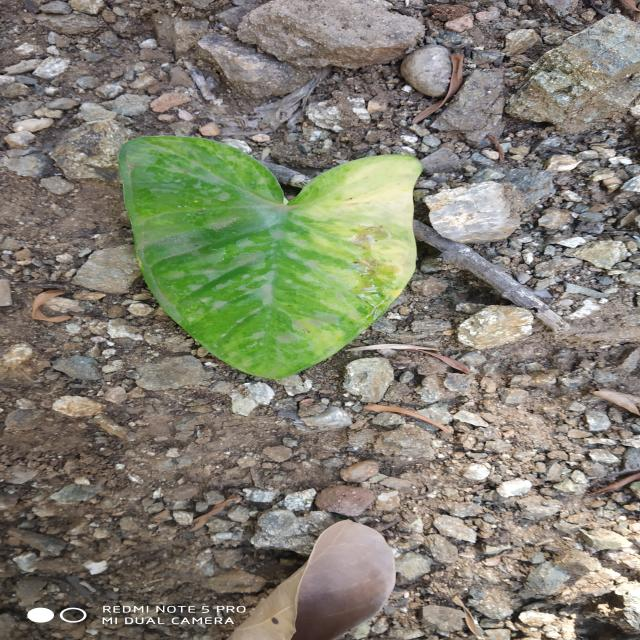defectedtaro: (216, 150, 420, 379)
taro: (120, 136, 422, 379)
